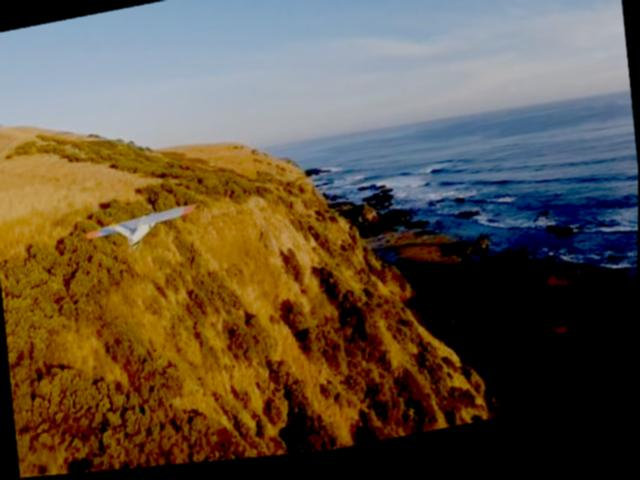uav: (81, 200, 202, 260)
